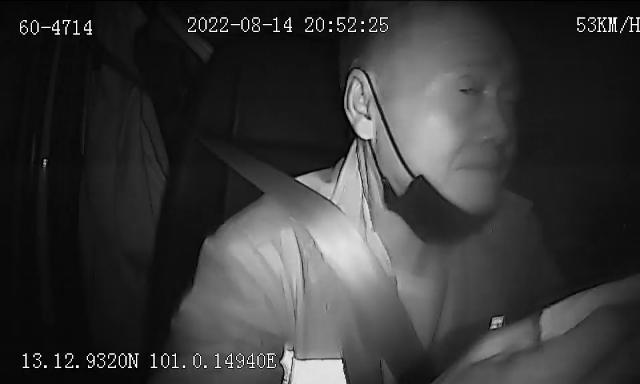Seatbelt: (224, 154, 426, 384)
